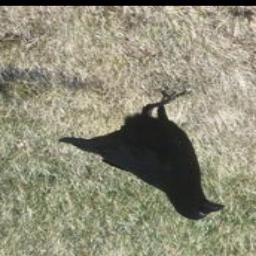Crow: (63, 92, 231, 226)
